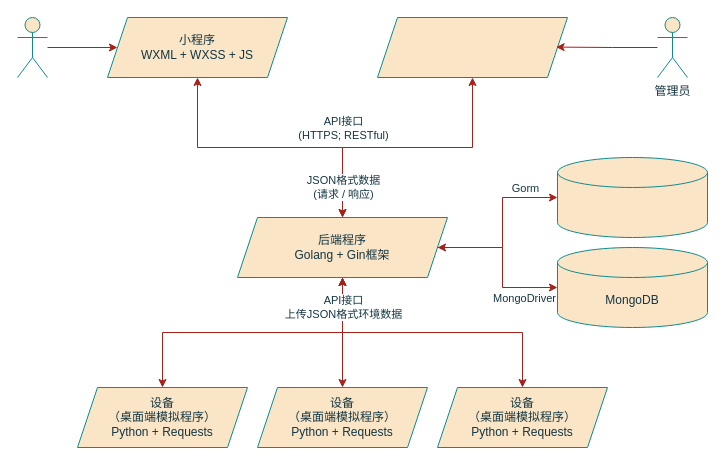
This 725x465 diagram has some shape labels left out. Each missing label, with the box of its shape:
MySQL: (556, 156, 708, 238)
Web后台 Vue + Element-Pro: (376, 16, 568, 78)
用户: (16, 16, 48, 78)
